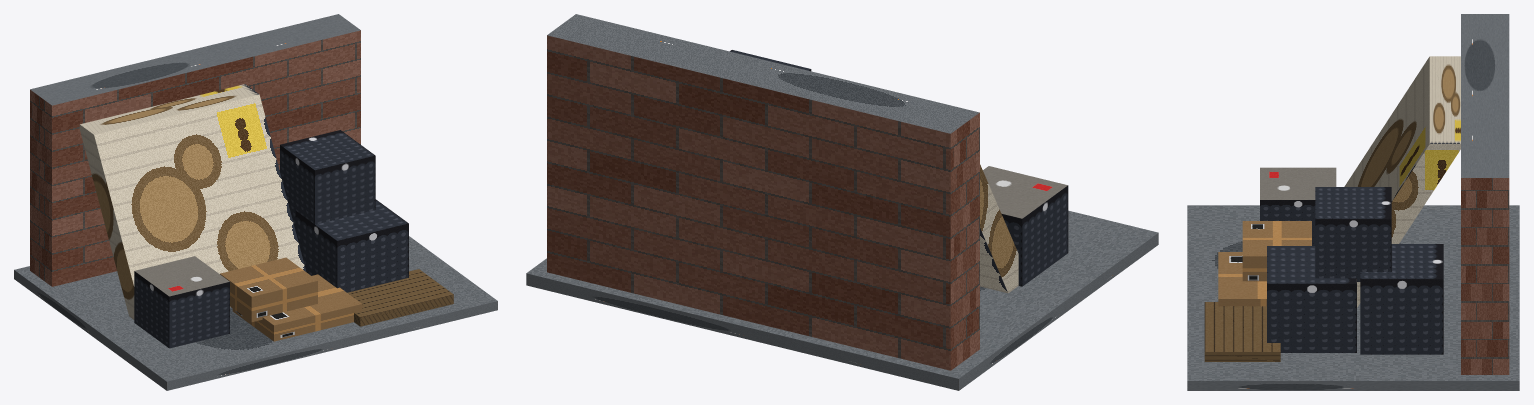
The model's file is prop_street_mattress.glb.
3 views of the same model, side by side, from view 1: azimuth 30°, elevation 25°; view 2: azimuth 150°, elevation 25°; view 3: azimuth 270°, elevation 25° (orthographic). The views are drawn at different scales.
Parts seen in each view (by area): view 1: Prop_Street_Mattress; view 2: Prop_Street_Mattress; view 3: Prop_Street_Mattress.
Boxes of the visible parts, left/top/right/bottom form: Prop_Street_Mattress: left=14, top=14, right=497, bottom=390; Prop_Street_Mattress: left=526, top=14, right=1158, bottom=390; Prop_Street_Mattress: left=1187, top=14, right=1519, bottom=390.
Bounding box in the file's own units: 3 × 1.65 × 2.4.
Materials: 1 (1 with a texture image).
